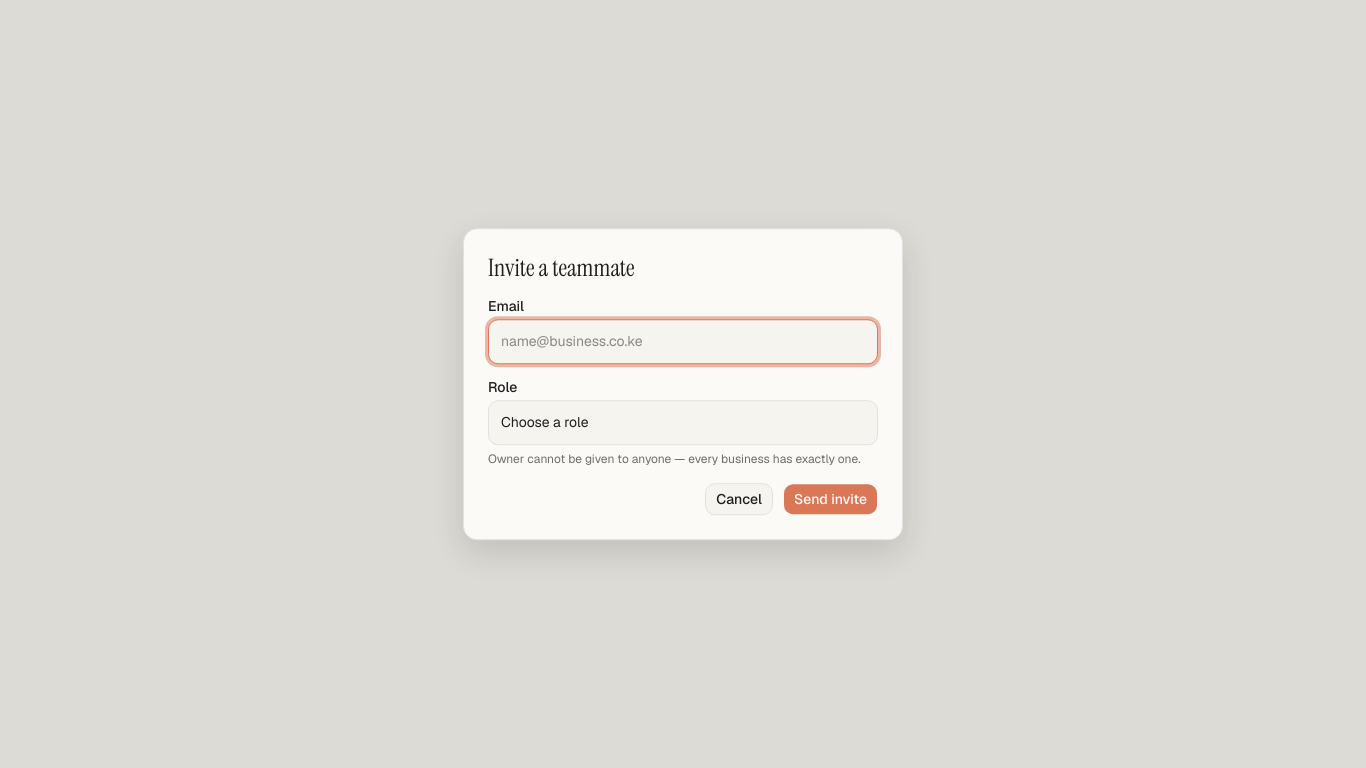
Test: InviteMemberDialog › tells an unverified caller to check their own inbox, not to ask an owner
The image size is (1366, 768).
In the field labelled "Email": (683, 342) top-left (488, 319), bottom-right (878, 364), type "leyla@spark.co.ke"
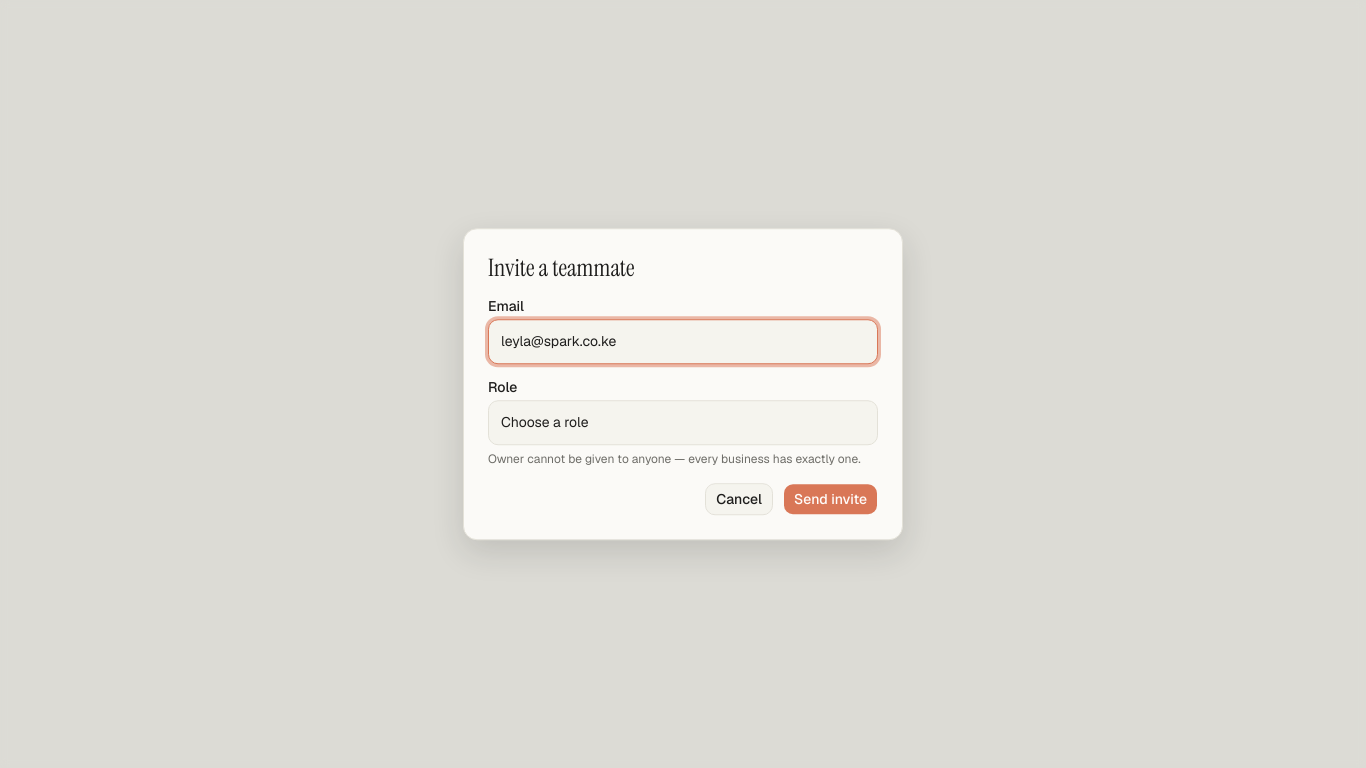
Select "Seller" in the dropdown labelled "Role": (683, 422) top-left (488, 400), bottom-right (878, 445)
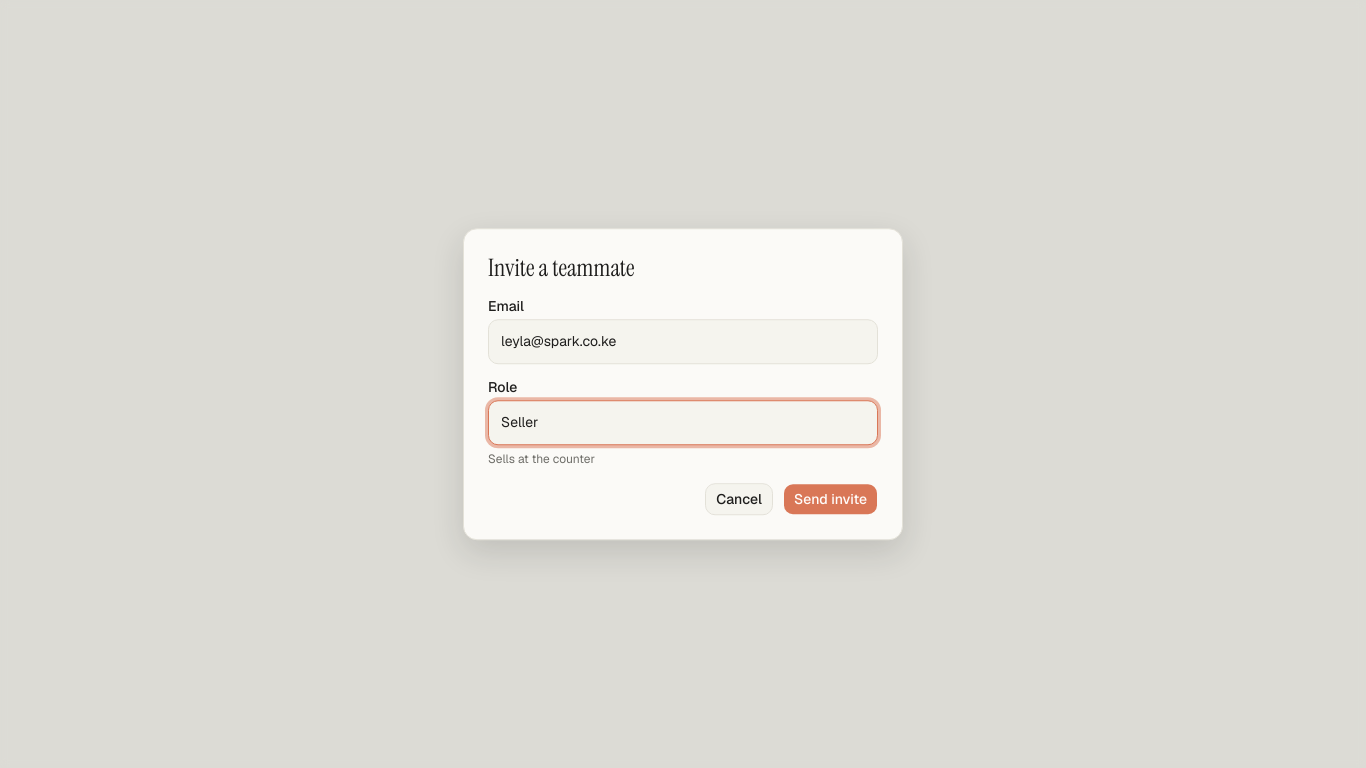
Click the button "Send invite": (830, 499) top-left (783, 483), bottom-right (878, 515)
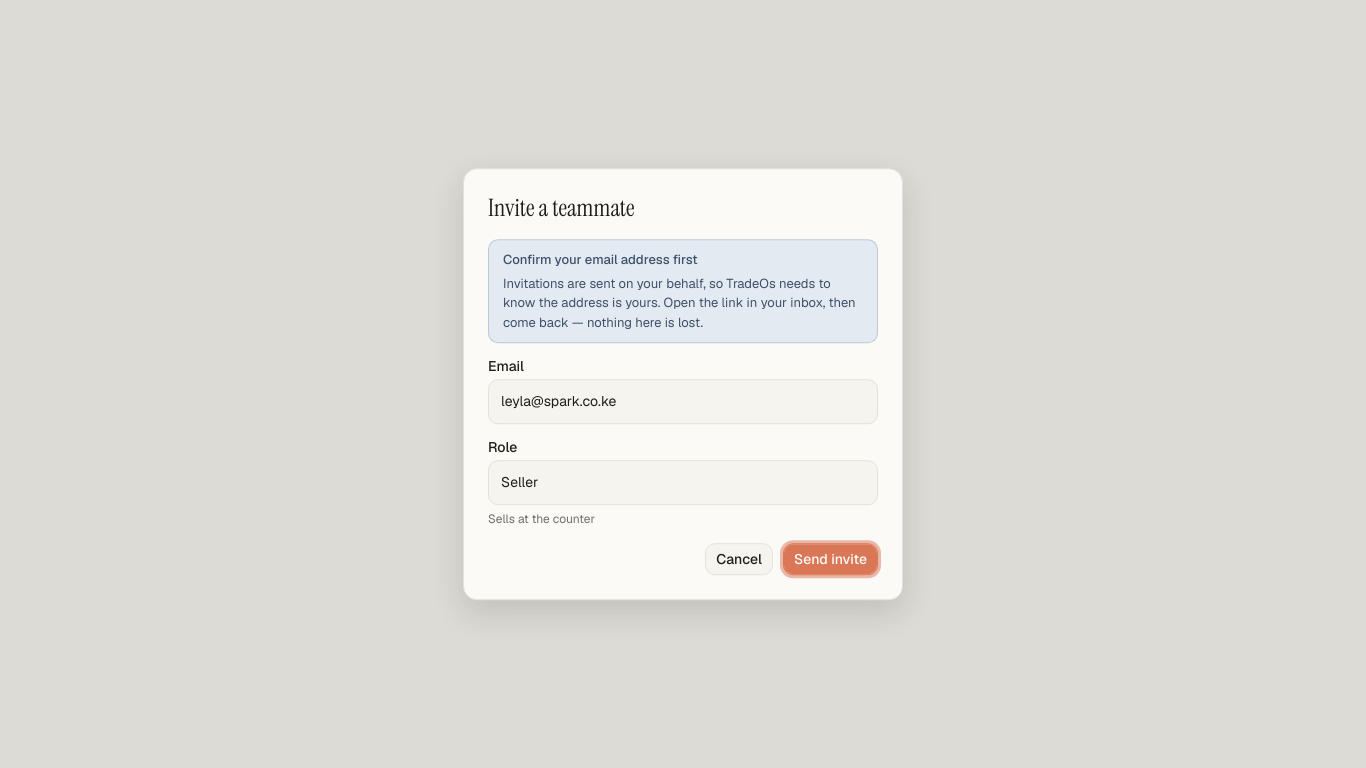
Now the text "Confirm your email address first" is shown, box top-left (503, 251), bottom-right (698, 268)
